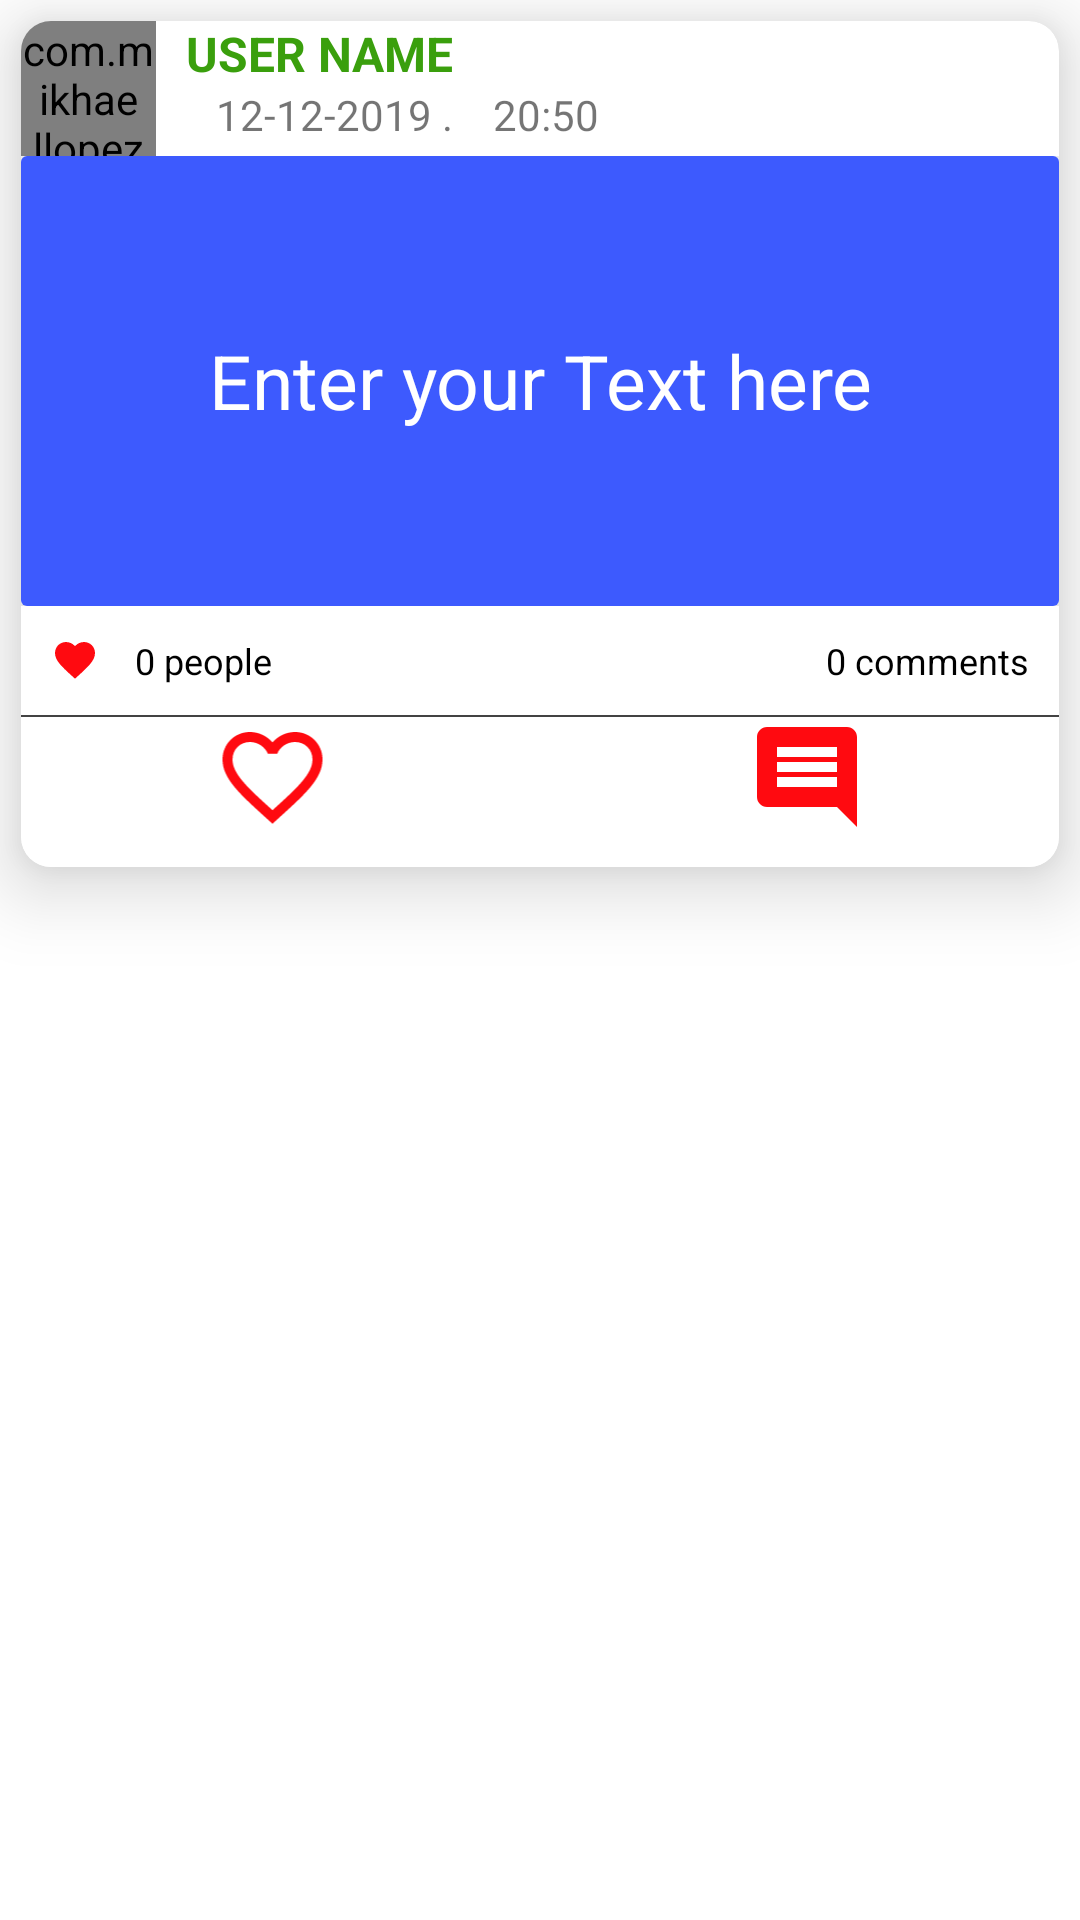

Point at icon controls on the screen. Image size 1080 x 1920, points as (x=x, y=y).
favorite border: (x=272, y=778)
insert comment: (x=807, y=777)
